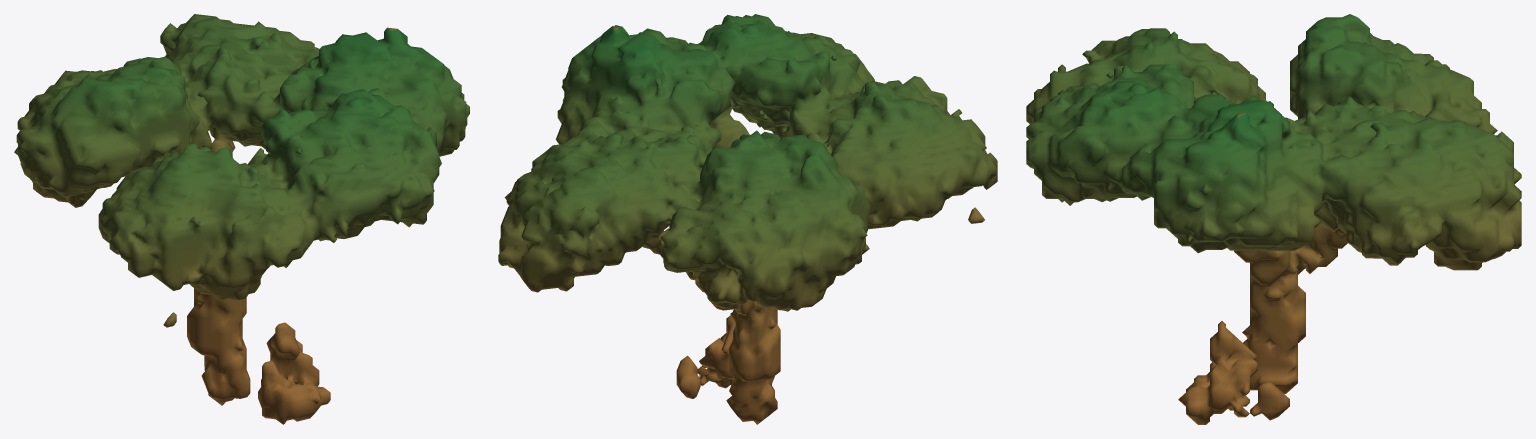
The model's file is gen5_colored.obj.
The picture shows the model from 3 angles, left to right: view 1: azimuth 30°, elevation 25°; view 2: azimuth 150°, elevation 25°; view 3: azimuth 270°, elevation 25°; orthographic projection. The views are drawn at different scales.
Bounding box in the file's own units: 58 × 50 × 62.
Materials: 1 (1 with a texture image).
